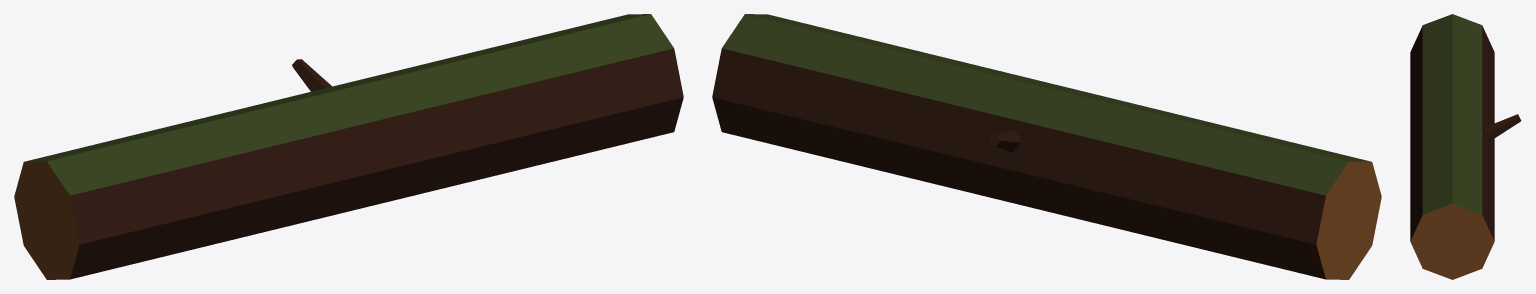
File: Log_Mossy_02.fbx
The picture shows the model from 3 angles, left to right: view 1: azimuth 30°, elevation 25°; view 2: azimuth 150°, elevation 25°; view 3: azimuth 270°, elevation 25°; orthographic projection. The views are drawn at different scales.
Parts seen in each view (by area): view 1: Log_Mossy_02_Mesh; view 2: Log_Mossy_02_Mesh; view 3: Log_Mossy_02_Mesh.
Boxes of the visible parts, x1=… form: Log_Mossy_02_Mesh: x1=14, y1=14, x2=683, y2=279; Log_Mossy_02_Mesh: x1=712, y1=14, x2=1381, y2=279; Log_Mossy_02_Mesh: x1=1410, y1=14, x2=1521, y2=279.
Bounding box in the file's own units: 3.2 × 0.6 × 0.7923.
1 material, 1 textured.
